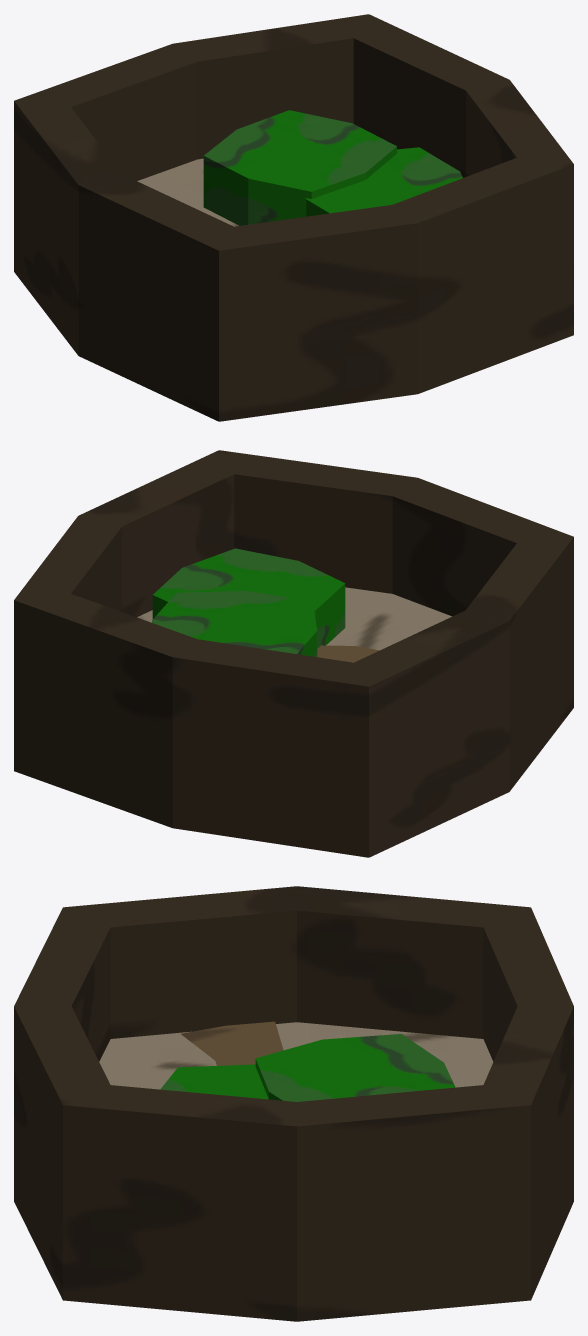
The model's file is item-mod-badge-but-better.glb.
3 renders of one model, top to bottom at view 1: azimuth 30°, elevation 25°; view 2: azimuth 150°, elevation 25°; view 3: azimuth 270°, elevation 25°, orthographic. The views are drawn at different scales.
Size of the model in its own units: 0.1648 by 0.0624 by 0.1623.
Materials: 4 (4 with a texture image).
